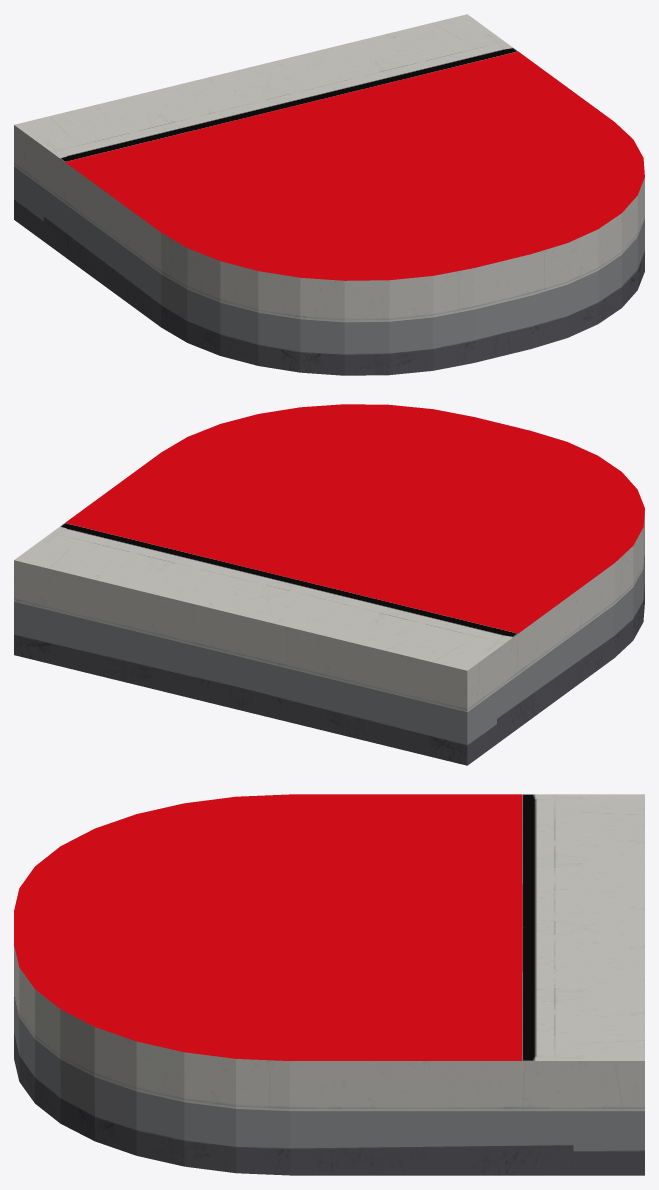
Rendered from G_Env_Arch_Floor_Metal_11_MiddleRoundedOut.fbx.
3 renders of one model, top to bottom at view 1: azimuth 30°, elevation 25°; view 2: azimuth 150°, elevation 25°; view 3: azimuth 270°, elevation 25°, orthographic. The views are drawn at different scales.
Visible parts, largest first — view 1: G_Env_Arch_Floor_Metal_11_MiddleRoundedOut; view 2: G_Env_Arch_Floor_Metal_11_MiddleRoundedOut; view 3: G_Env_Arch_Floor_Metal_11_MiddleRoundedOut.
Part boxes in pixels (bbox=[...]): G_Env_Arch_Floor_Metal_11_MiddleRoundedOut: bbox=[14, 14, 644, 375]; G_Env_Arch_Floor_Metal_11_MiddleRoundedOut: bbox=[14, 404, 644, 765]; G_Env_Arch_Floor_Metal_11_MiddleRoundedOut: bbox=[14, 794, 644, 1175].
Bounding box in the file's own units: 500 × 100 × 500.
